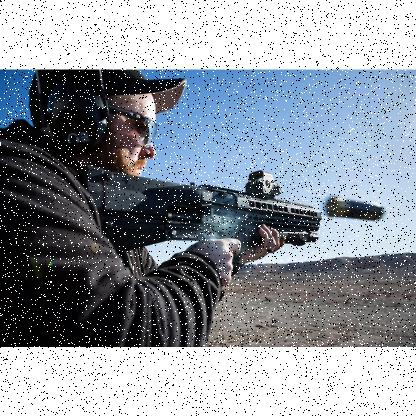gun: (74, 162, 324, 280)
